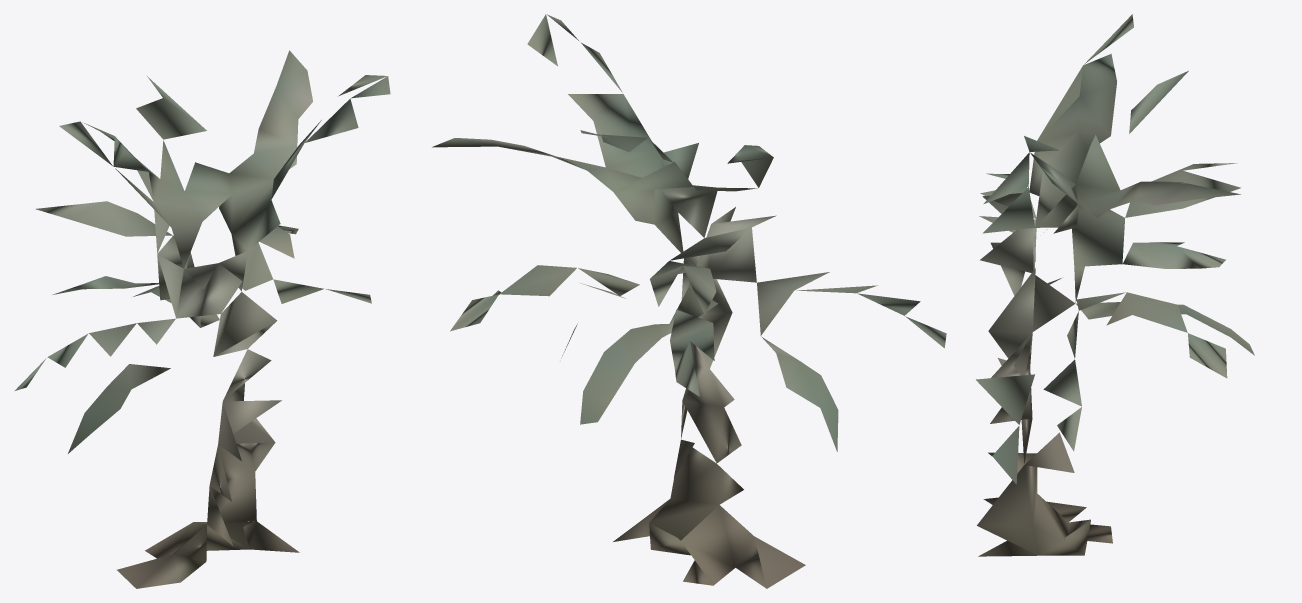
The model's file is verdant_palm_lod_v130_part1.gltf.
3 views of the same model, side by side, from view 1: azimuth 30°, elevation 25°; view 2: azimuth 150°, elevation 25°; view 3: azimuth 270°, elevation 25° (orthographic). The views are drawn at different scales.
Visible parts, largest first — view 1: verdant_palm_lod_v130Part1; view 2: verdant_palm_lod_v130Part1; view 3: verdant_palm_lod_v130Part1.
Boxes of the visible parts, left/top/right/bottom form: verdant_palm_lod_v130Part1: left=15, top=50, right=390, bottom=588; verdant_palm_lod_v130Part1: left=432, top=14, right=946, bottom=588; verdant_palm_lod_v130Part1: left=976, top=14, right=1254, bottom=556.
Bounding box in the file's own units: 0.8746 × 0.9503 × 0.5261.
